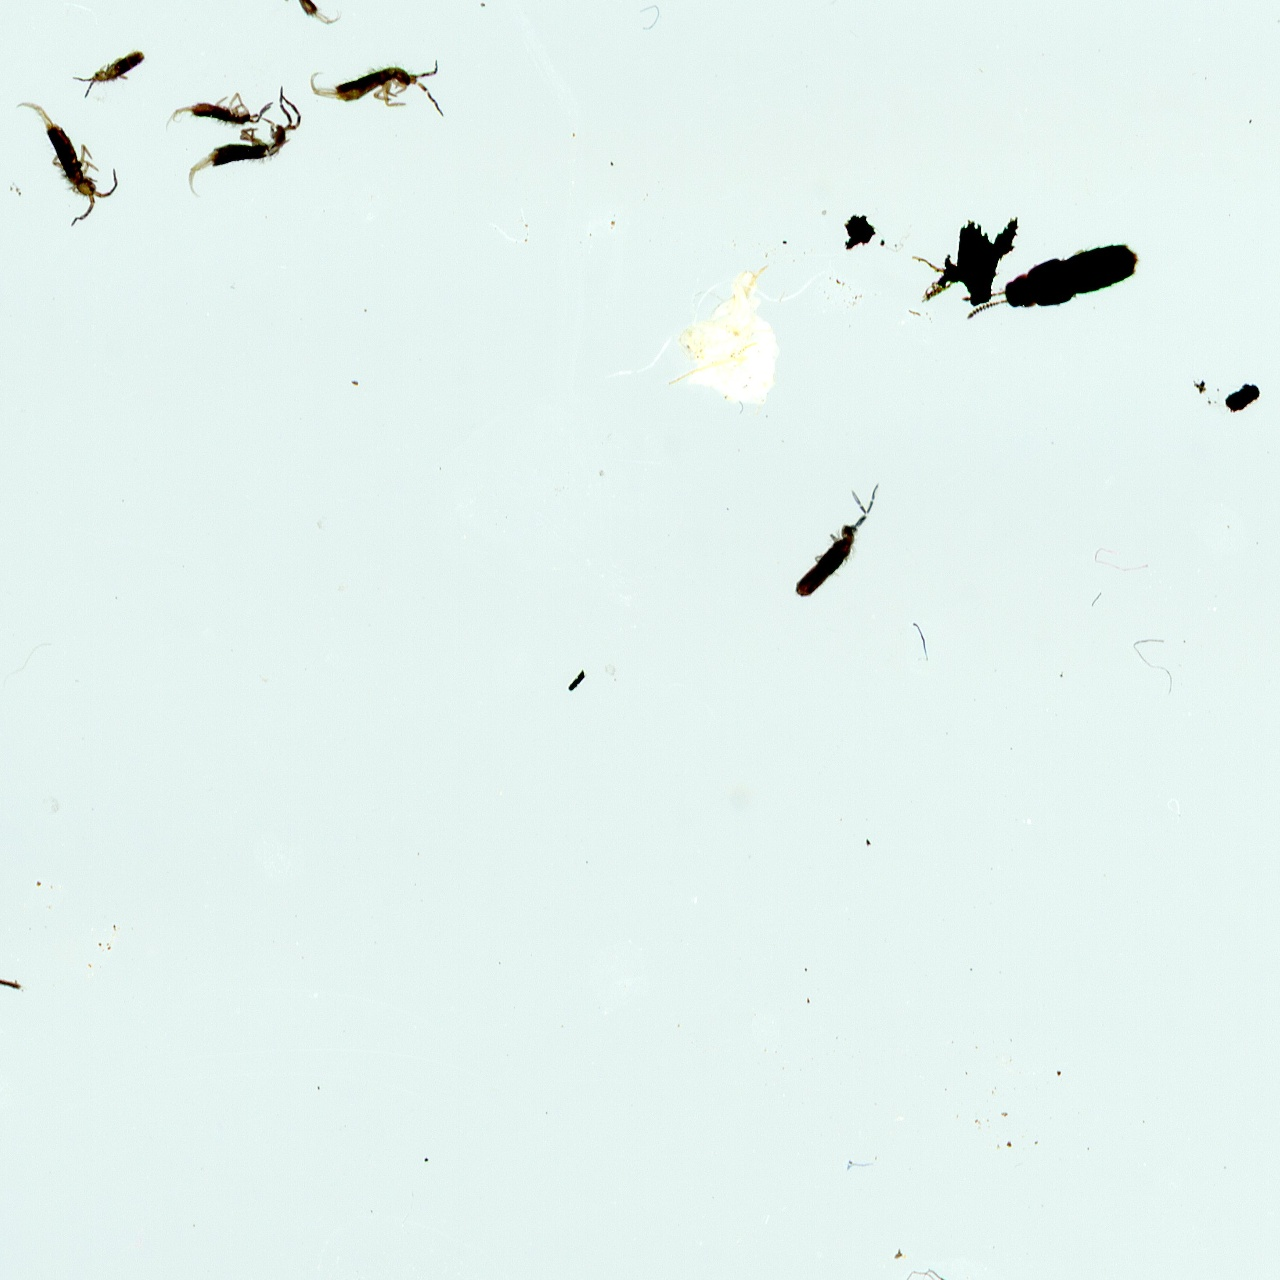arthropod: (176, 62, 318, 230), (951, 227, 1152, 339), (779, 461, 904, 621), (9, 98, 124, 230), (306, 56, 452, 122), (162, 88, 277, 131), (72, 45, 150, 97), (258, 0, 348, 28)
